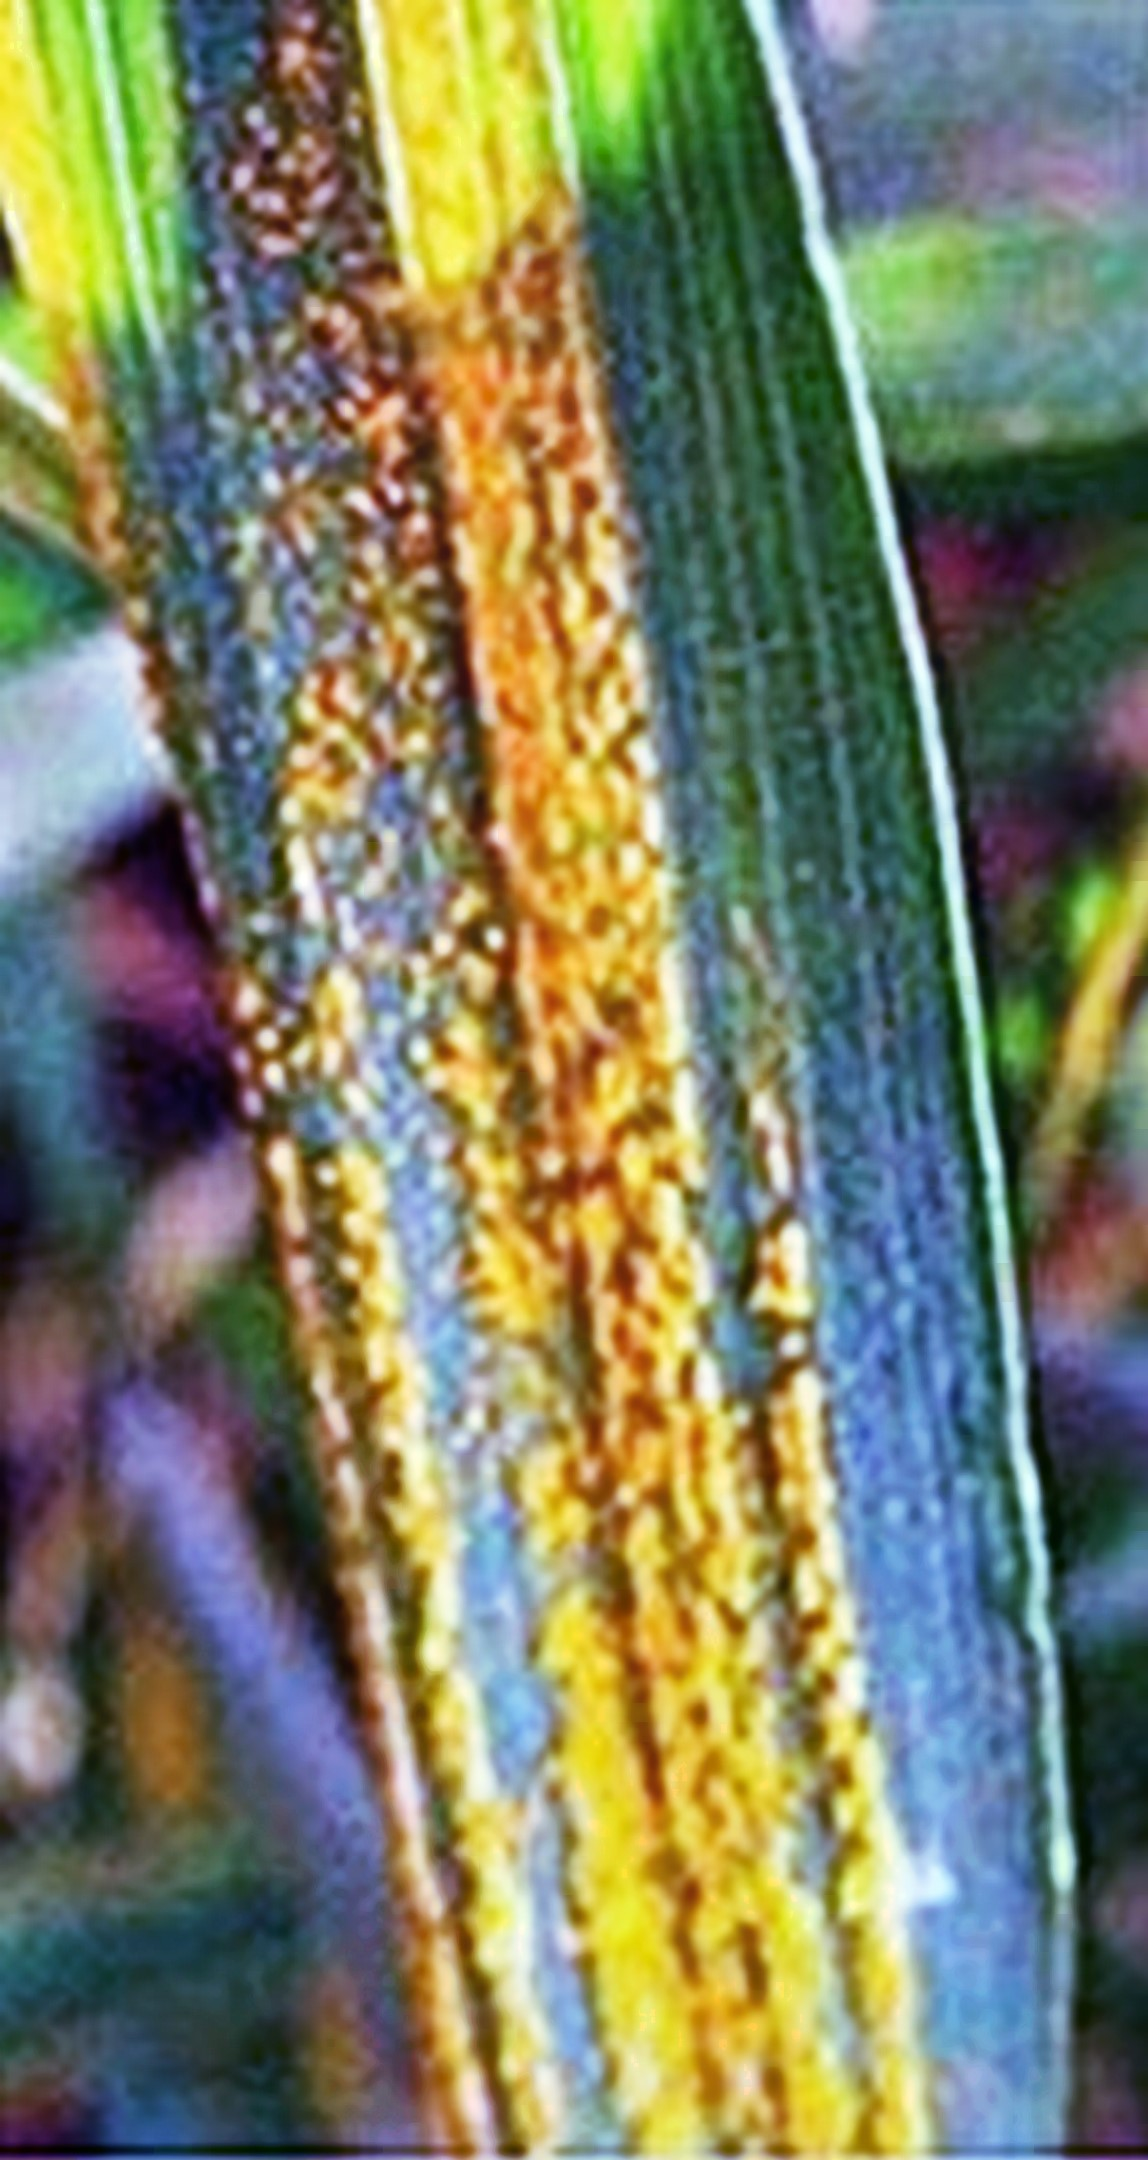Leaf Rust: (126, 256, 1129, 2131)
